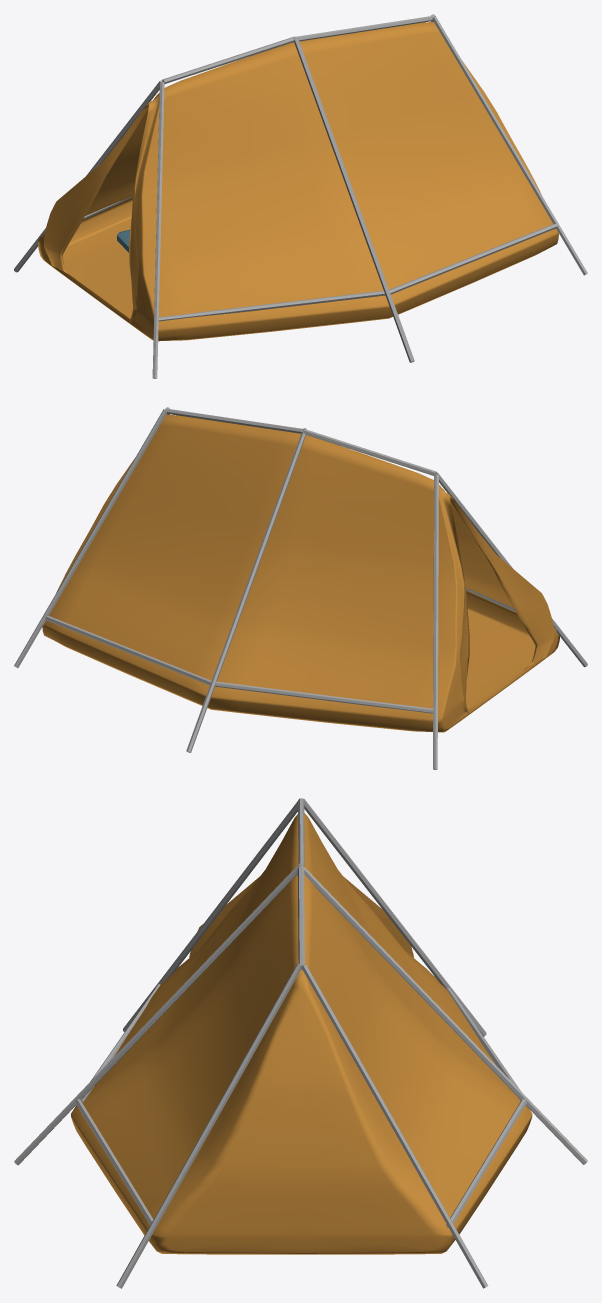
File: Msh_Tent_Env.fbx
3 views of the same model, one above another, from view 1: azimuth 30°, elevation 25°; view 2: azimuth 150°, elevation 25°; view 3: azimuth 270°, elevation 25° (orthographic). The views are drawn at different scales.
Visible parts, largest first — view 1: Tent1; view 2: Tent1; view 3: Tent1.
Part boxes in pixels (x1,y1,x2,y2): Tent1: (14,14,587,378); Tent1: (14,407,587,769); Tent1: (14,798,587,1288).
Bounding box in the file's own units: 3.87 × 3.6 × 2.08.
